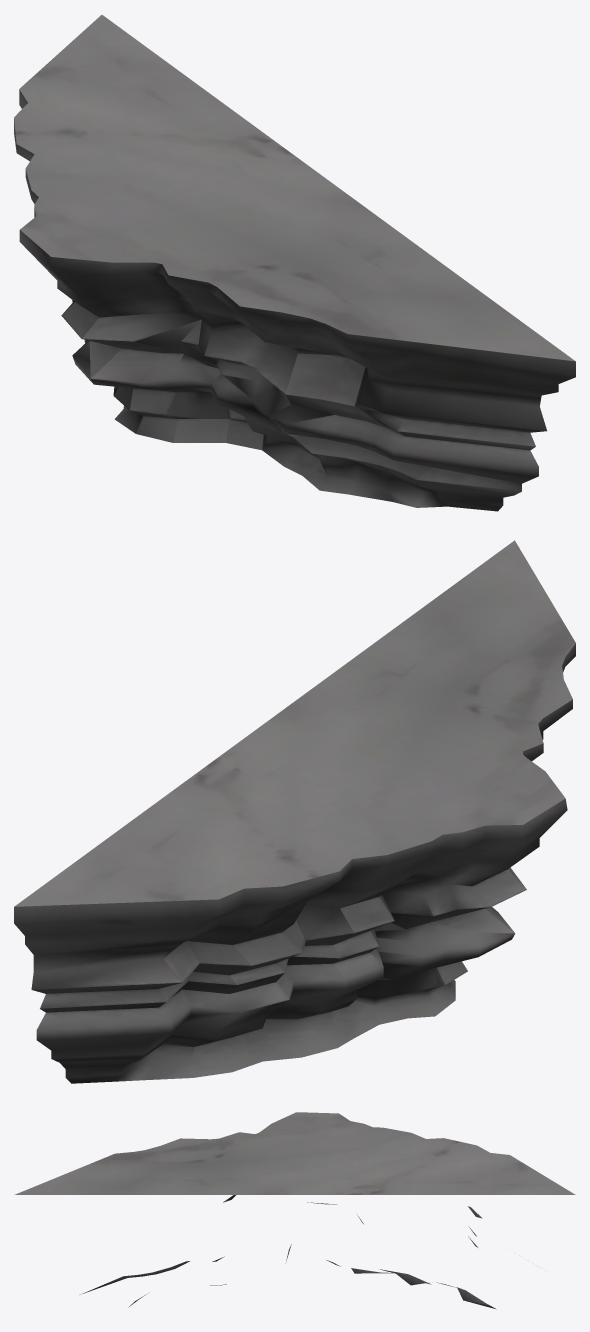
The picture shows the model from 3 angles, top to bottom: view 1: azimuth 30°, elevation 25°; view 2: azimuth 150°, elevation 25°; view 3: azimuth 270°, elevation 25°; orthographic projection. The views are drawn at different scales.
Parts seen in each view (by area): view 1: body0_model0_lod0_mesh0; view 2: body0_model0_lod0_mesh0; view 3: body0_model0_lod0_mesh0.
Boxes of the visible parts, bbox=[...] form: body0_model0_lod0_mesh0: bbox=[14, 15, 575, 511]; body0_model0_lod0_mesh0: bbox=[14, 540, 575, 1083]; body0_model0_lod0_mesh0: bbox=[14, 1112, 575, 1309].
Bounding box in the file's own units: 463 × 320 × 1328.
1 material, 1 textured.
